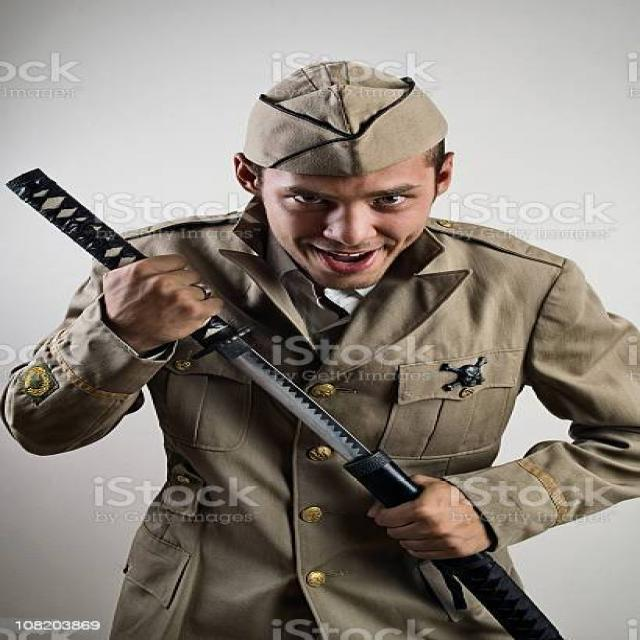long sword: (3, 163, 565, 640)
